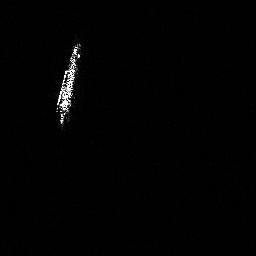ship: (51, 38, 84, 132)
